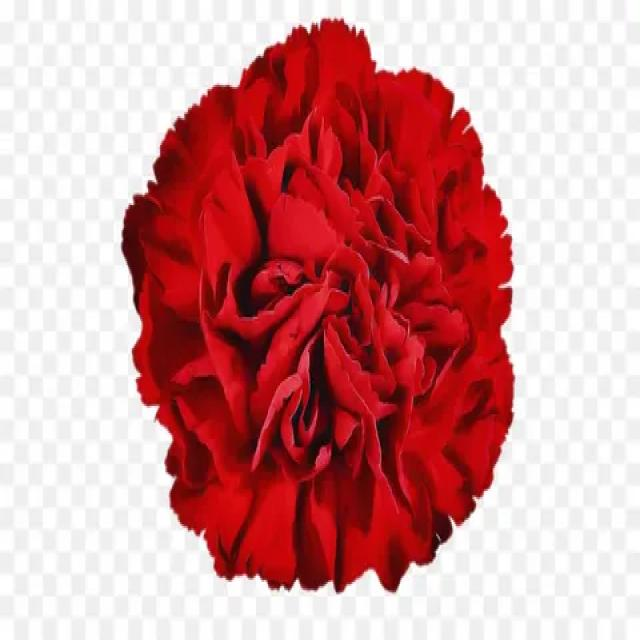carnation: (108, 0, 529, 601)
